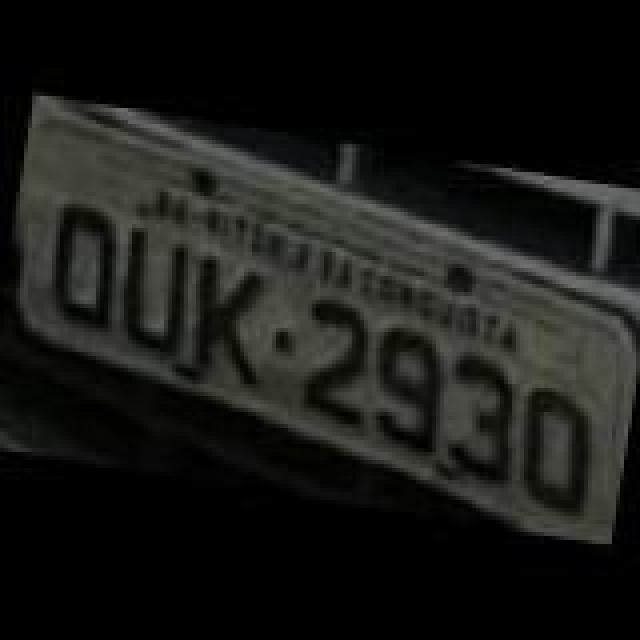2: (286, 290, 386, 430)
3: (432, 344, 528, 488)
9: (362, 316, 454, 452)
K: (178, 252, 286, 396)
O: (508, 384, 604, 520), (36, 196, 132, 332)
U: (106, 222, 198, 362)
